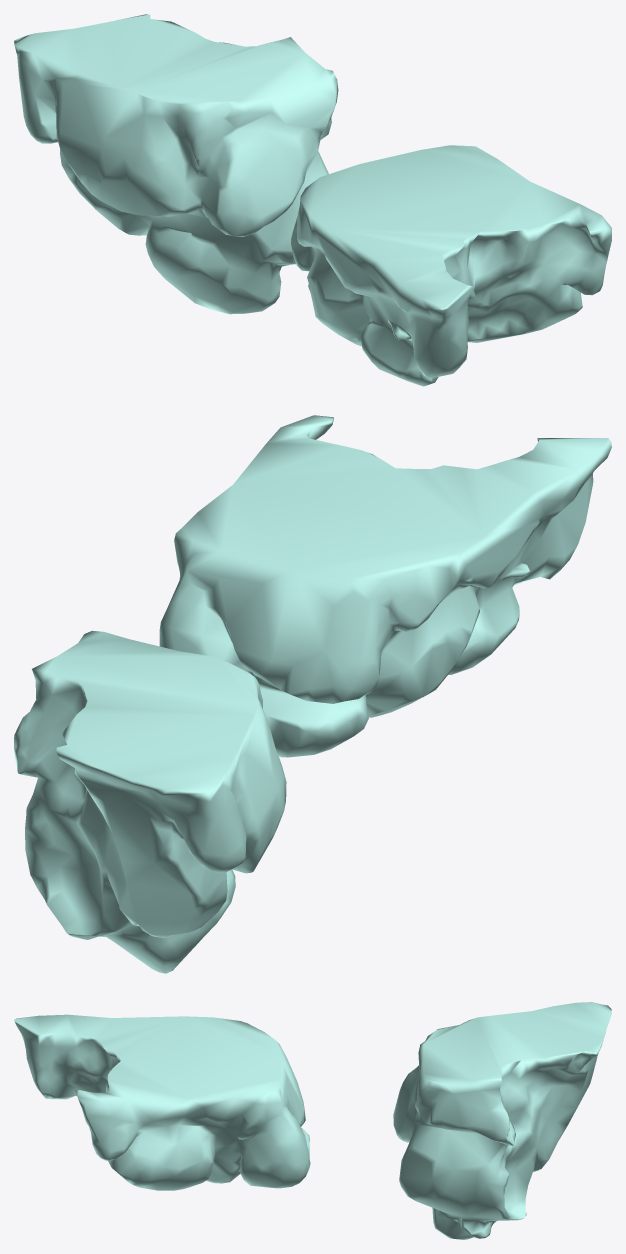
Rendered from island_7_LOD3.fbx.
3 views of the same model, one above another, from view 1: azimuth 30°, elevation 25°; view 2: azimuth 150°, elevation 25°; view 3: azimuth 270°, elevation 25° (orthographic). The views are drawn at different scales.
Visible parts, largest first — view 1: island_7_LOD3; view 2: island_7_LOD3; view 3: island_7_LOD3.
Part boxes in pixels (<box>): island_7_LOD3: <box>14,14,611,386</box>; island_7_LOD3: <box>14,415,611,973</box>; island_7_LOD3: <box>14,1002,611,1239</box>.
Bounding box in the file's own units: 953 × 806 × 2321.
